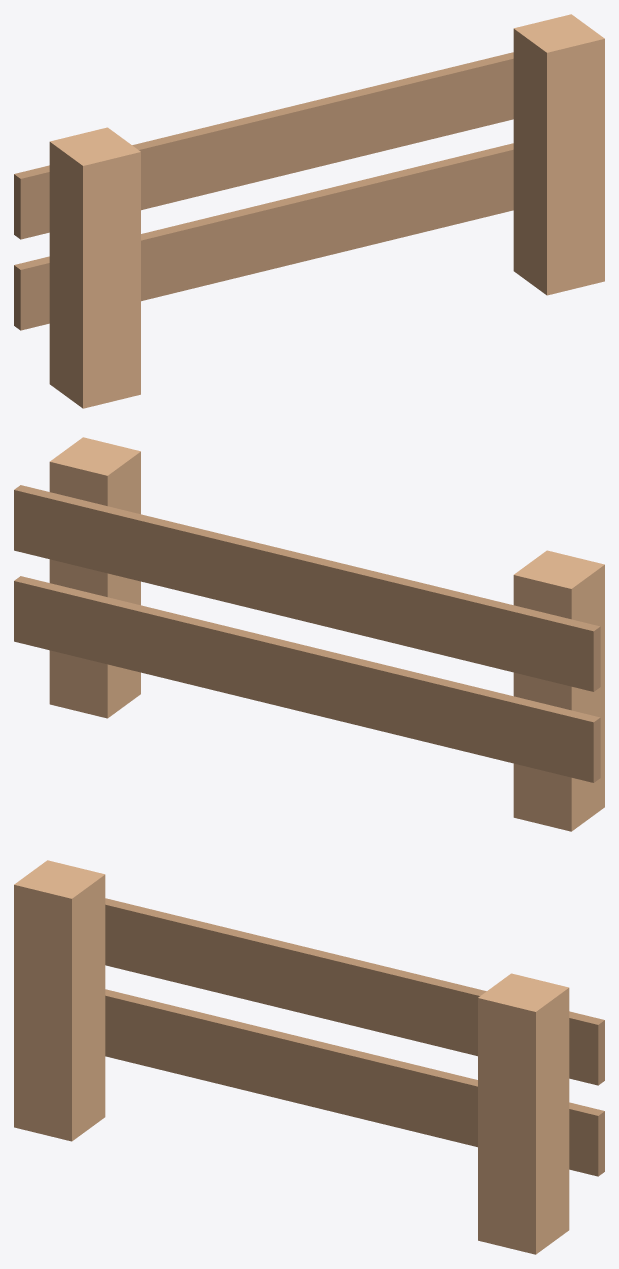
File: fence.glb
3 views of the same model, one above another, from view 1: azimuth 30°, elevation 25°; view 2: azimuth 150°, elevation 25°; view 3: azimuth 330°, elevation 25° (orthographic).
Parts seen in each view (by area): view 1: fence; view 2: fence; view 3: fence.
Part boxes in pixels (left/top/right/bottom): fence: left=14, top=14, right=604, bottom=408; fence: left=14, top=437, right=604, bottom=831; fence: left=14, top=860, right=604, bottom=1254.
Bounding box in the file's own units: 1 × 0.4 × 0.12.
